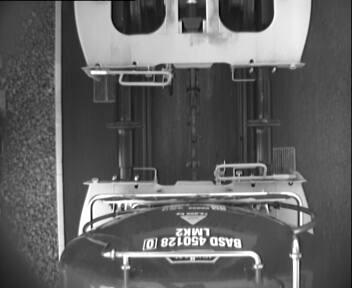Copy of Copy of Copy of Copy of Copy of wagon_scan: (102, 1, 281, 48)
